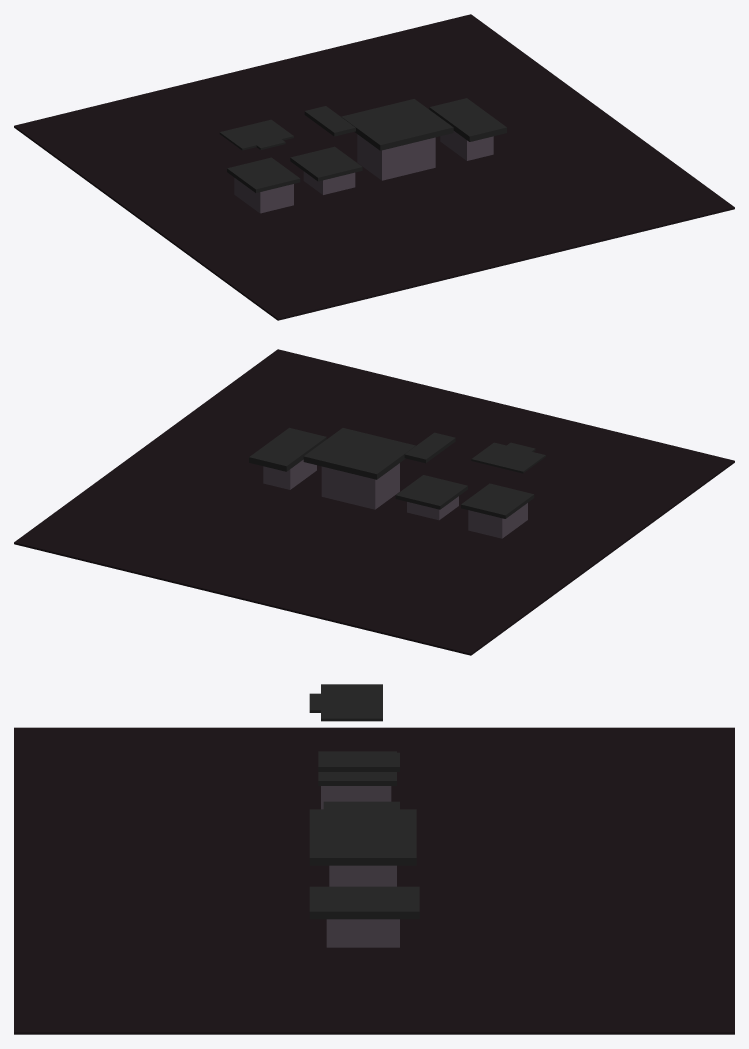
The model's file is estructura_3.obj.
3 views of the same model, one above another, from view 1: azimuth 30°, elevation 25°; view 2: azimuth 150°, elevation 25°; view 3: azimuth 270°, elevation 25° (orthographic). The views are drawn at different scales.
Bounding box in the file's own units: 25.6 × 3.8 × 25.6.
1 material, 1 textured.
